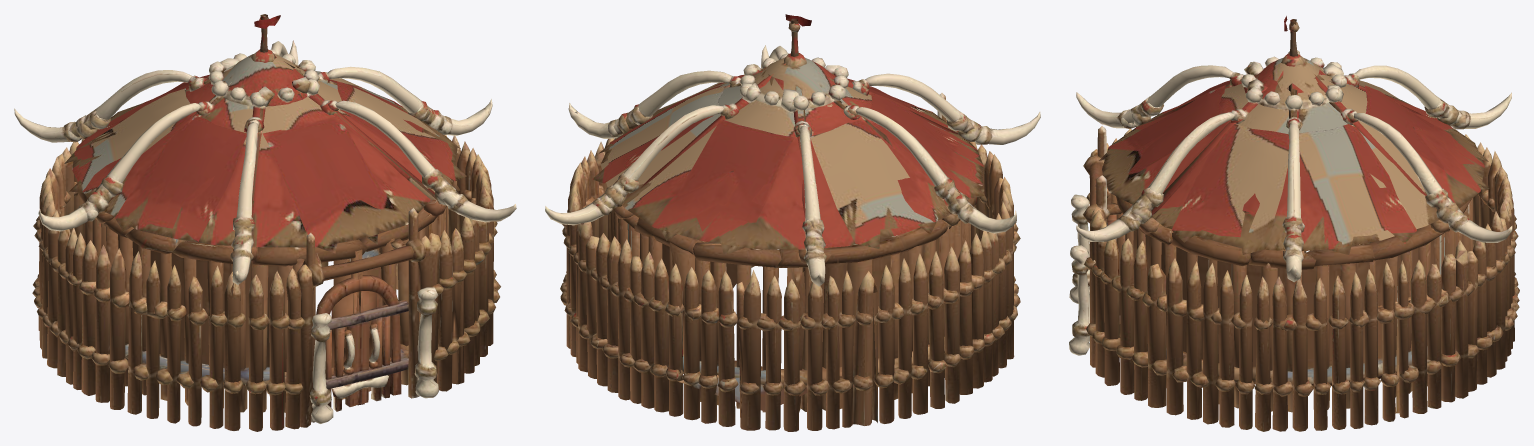
Rendered from salon-de-guerra_e3.glb.
3 views of the same model, side by side, from view 1: azimuth 30°, elevation 25°; view 2: azimuth 150°, elevation 25°; view 3: azimuth 270°, elevation 25° (orthographic). The views are drawn at different scales.
Bounding box in the file's own units: 12 × 8.2 × 10.61.
Materials: 1 (1 with a texture image).
